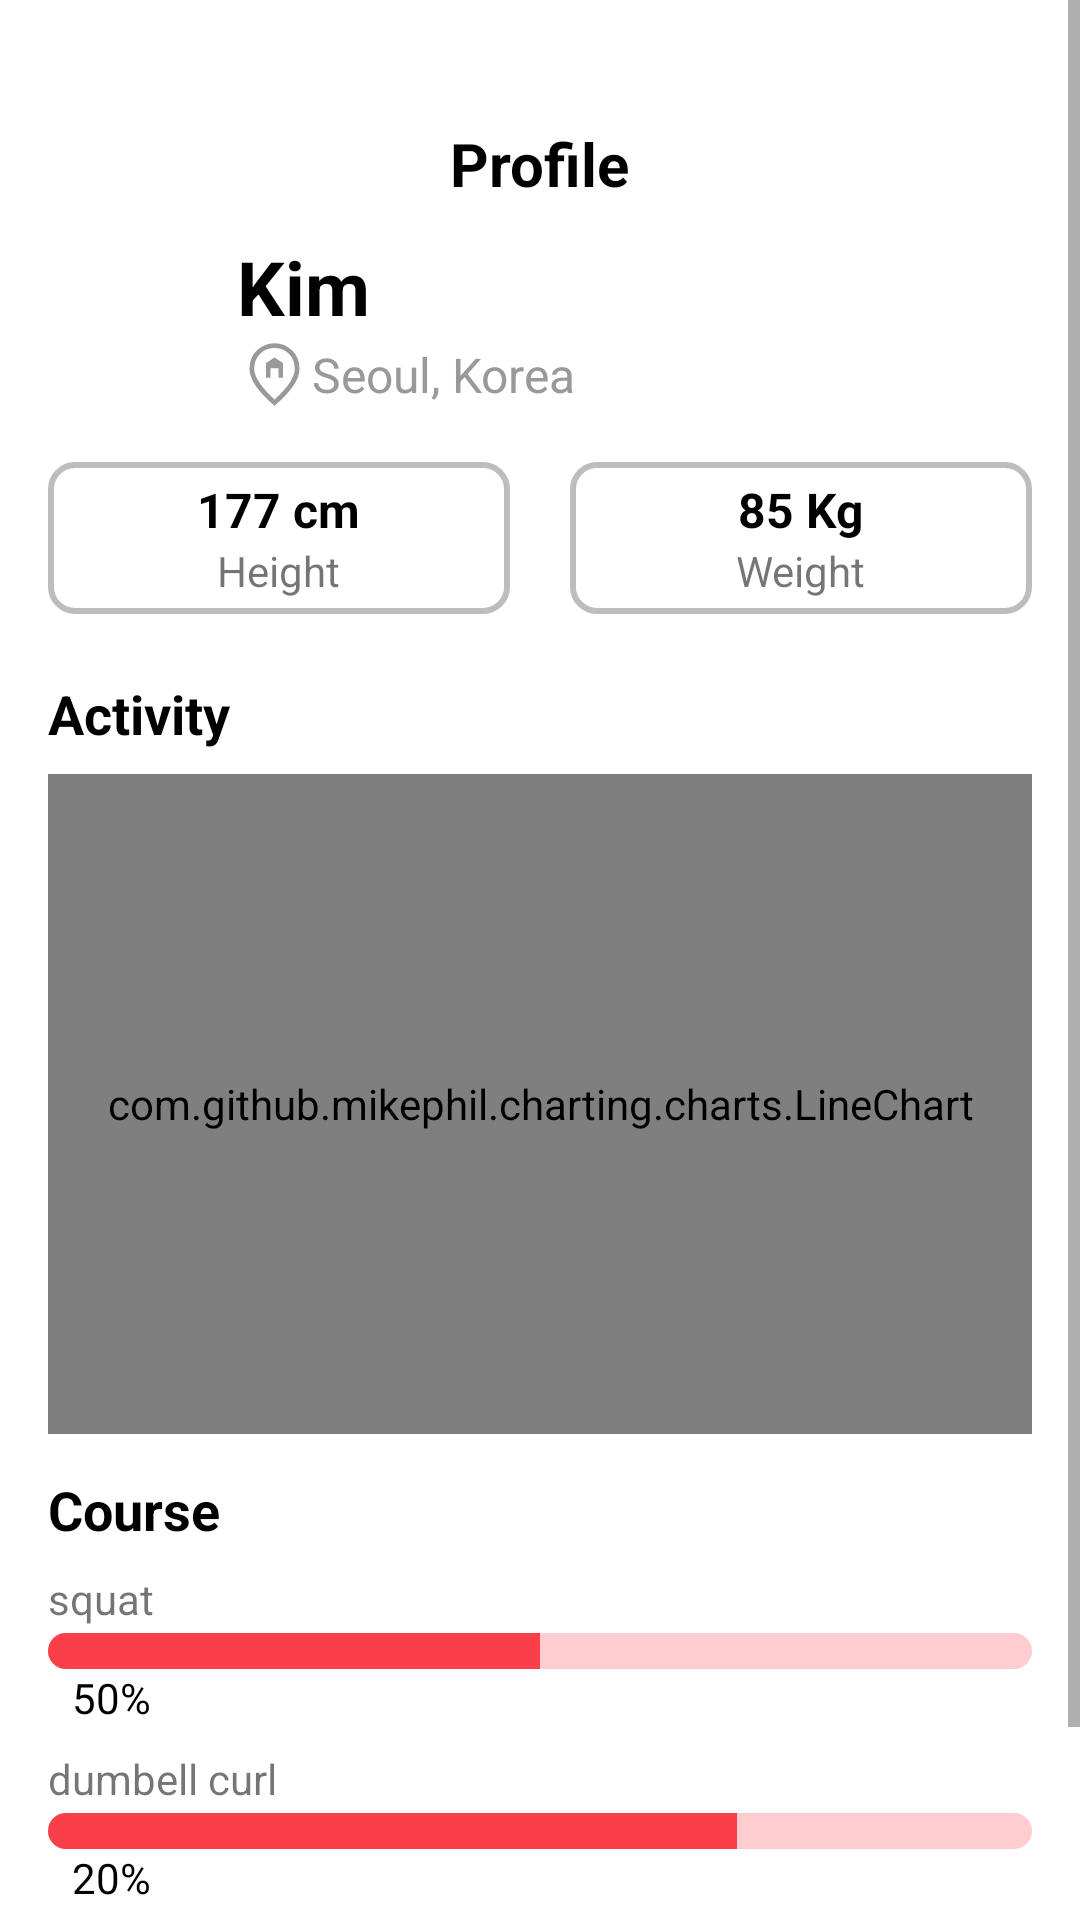

Icons on this 1080*1920 Android screen, each with its box as (x1=x1, y1=y1, x2=x2, y2=y2):
home pin: (x1=249, y1=343, x2=300, y2=406)
